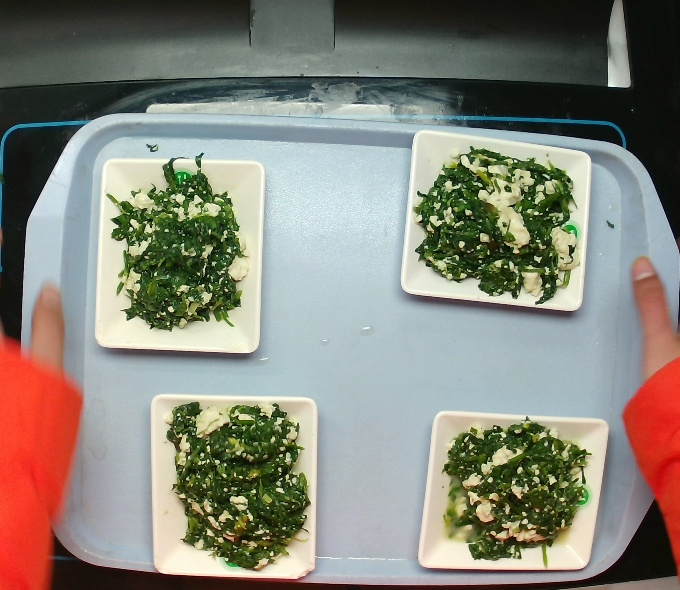wcq-QinCaiYeDouFu: (398, 141, 597, 305), (150, 394, 322, 568), (99, 165, 253, 333), (431, 420, 601, 557)
